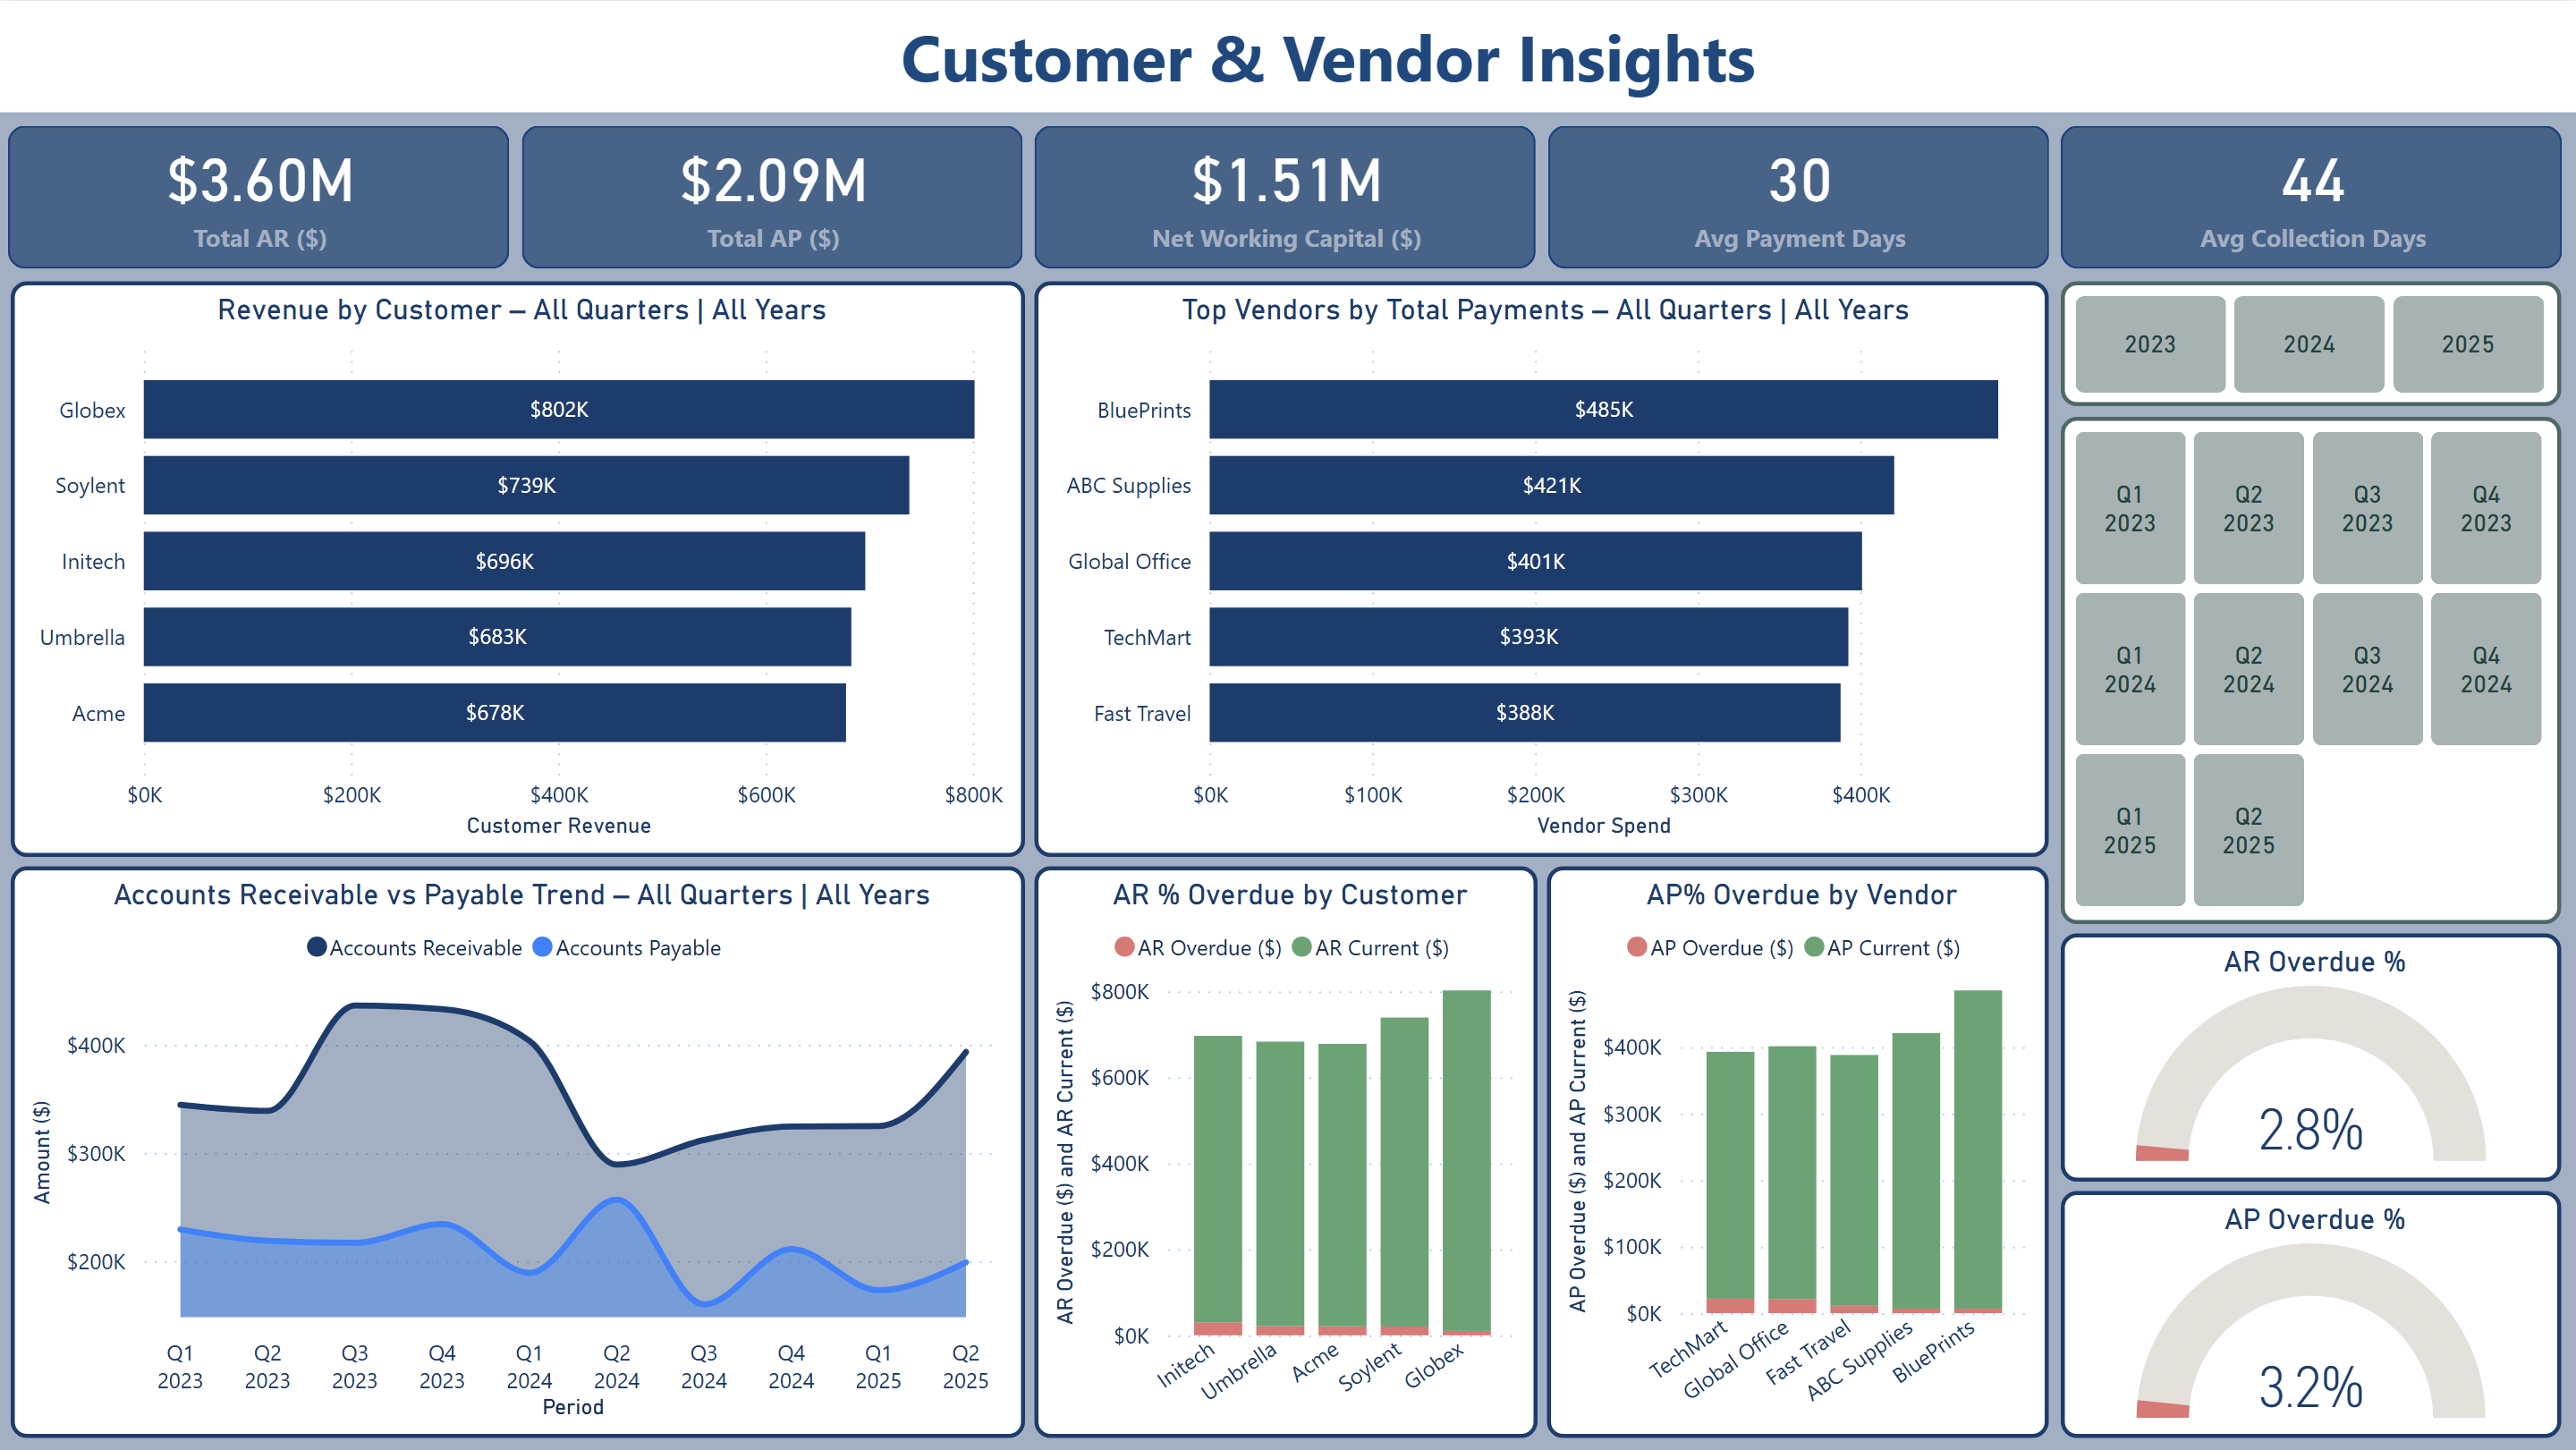

What the dashboard file says about the page in this screenshot:
{"tool":"powerbi","page":{"name":"Customer & Vendor Insights","canvas":[1280,720],"ordinal":2},"visuals":[{"type":"barChart","fields":{"Category":["Fact_AR.Customer"],"Y":["_Measures.Customer Revenue"]},"box":[5,139,504,286],"z":0},{"type":"areaChart","fields":{"Category":["Dim_Date.QuarterLabel","Dim_Date.StartOfMonth"],"Y":["_Measures.AR Amount (All)","_Measures.AP Amount (All)"]},"box":[5.3,430,504,284],"z":1000},{"type":"advancedSlicerVisual","fields":{"Values":["Dim_Date.QuarterLabel"]},"box":[1024.3,206.4,248.6,252.1],"z":2000},{"type":"advancedSlicerVisual","fields":{"Values":["Dim_Date.FiscalYear"]},"box":[1024,139.3,248.7,62],"z":3000},{"type":"textbox","box":[0,0,1280,55],"z":4000},{"type":"barChart","fields":{"Y":["_Measures.Vendor Spend"],"Category":["Fact_AP.Vendor"]},"box":[514,139.3,504,286],"z":5000},{"type":"columnChart","title":"AR % Overdue by Customer","fields":{"Category":["Fact_AR.Customer"],"Y":["_Measures.AR Overdue ($)","_Measures.AR Current ($)"]},"box":[514,430,250,284],"z":6000},{"type":"cardVisual","fields":{"Data":["_Measures.AR Amount (All) (Display)","_Measures.AP Amount (All) (Display)","_Measures.Net AR-AP (Display)","_Measures.Avg Days To Pay (Paid)","_Measures.Avg Days To Receive (Received)"]},"box":[0,60,1280,75],"z":7000},{"type":"gauge","title":"AR Overdue %","fields":{"Y":["_Measures.AR % Overdue"]},"box":[1024,463.3,248.7,123],"z":8000},{"type":"gauge","title":"AP Overdue %","fields":{"Y":["_Measures.AP % Overdue"]},"box":[1024,591.3,248.7,122.7],"z":9000},{"type":"columnChart","title":"AP% Overdue by Vendor","fields":{"Category":["Fact_AP.Vendor"],"Y":["_Measures.AP Overdue ($)","_Measures.AP Current ($)"]},"box":[768.7,430,249.3,284],"z":10000}]}

Visuals, with their boxes in screenshot pixels (x1, y1, x2, y2), scaled from the page's 1280x720 canvas onto the 2576x1450 screenshot:
barChart - Fact_AR.Customer x _Measures.Customer Revenue: [left=10, top=280, right=1024, bottom=856]
areaChart - Dim_Date.QuarterLabel x Dim_Date.StartOfMonth: [left=11, top=866, right=1025, bottom=1437]
advancedSlicerVisual - Dim_Date.QuarterLabel: [left=2062, top=416, right=2562, bottom=923]
advancedSlicerVisual - Dim_Date.FiscalYear: [left=2061, top=281, right=2562, bottom=405]
textbox: [left=0, top=0, right=2575, bottom=111]
barChart - _Measures.Vendor Spend x Fact_AP.Vendor: [left=1034, top=281, right=2048, bottom=857]
"AR % Overdue by Customer" columnChart: [left=1034, top=866, right=1538, bottom=1437]
cardVisual - _Measures.AR Amount (All) (Display) x _Measures.AP Amount (All) (Display): [left=0, top=121, right=2575, bottom=272]
"AR Overdue %" gauge: [left=2061, top=933, right=2562, bottom=1181]
"AP Overdue %" gauge: [left=2061, top=1191, right=2562, bottom=1437]
"AP% Overdue by Vendor" columnChart: [left=1547, top=866, right=2048, bottom=1437]
